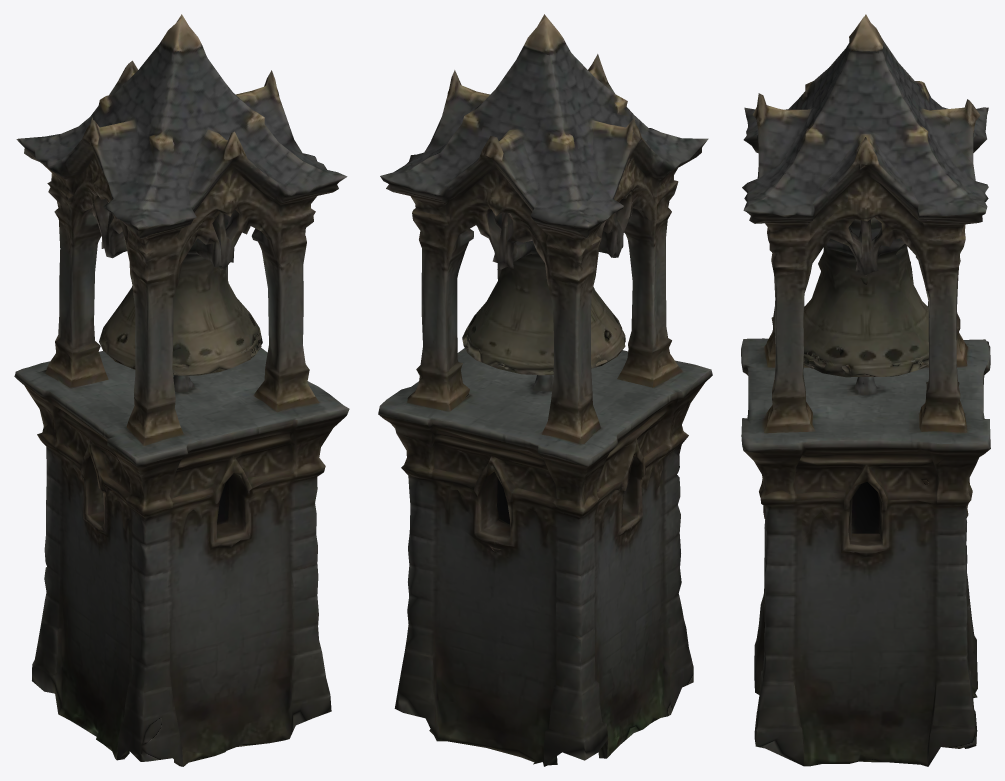
The model's file is bell_tower.glb.
3 renders of one model, left to right at view 1: azimuth 30°, elevation 25°; view 2: azimuth 150°, elevation 25°; view 3: azimuth 270°, elevation 25°, orthographic.
Visible parts, largest first — view 1: geometry_0; view 2: geometry_0; view 3: geometry_0.
Part boxes in pixels (x1,y1,x2,y2): geometry_0: (14,14,349,766); geometry_0: (378,14,712,766); geometry_0: (741,14,990,766).
Size of the model in its own units: 0.318 by 0.9953 by 0.3188.
1 material, 1 textured.
